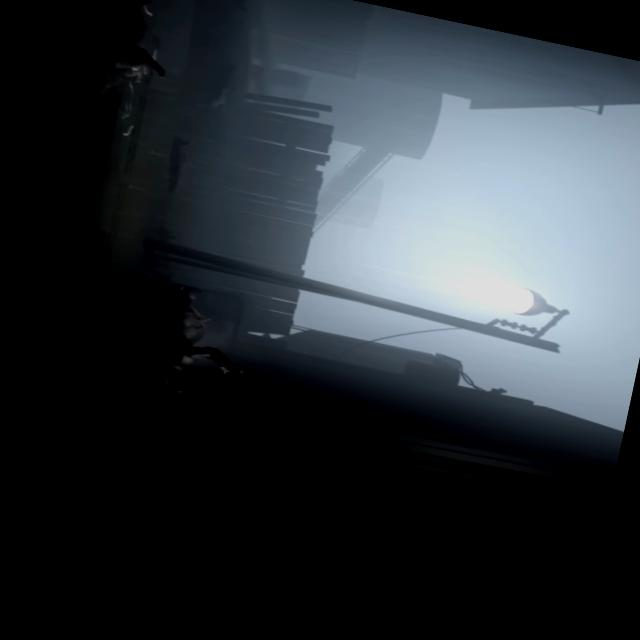boy: (180, 339, 246, 377)
